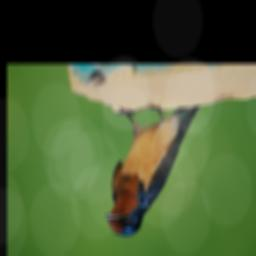Swallow: (104, 101, 201, 238)
